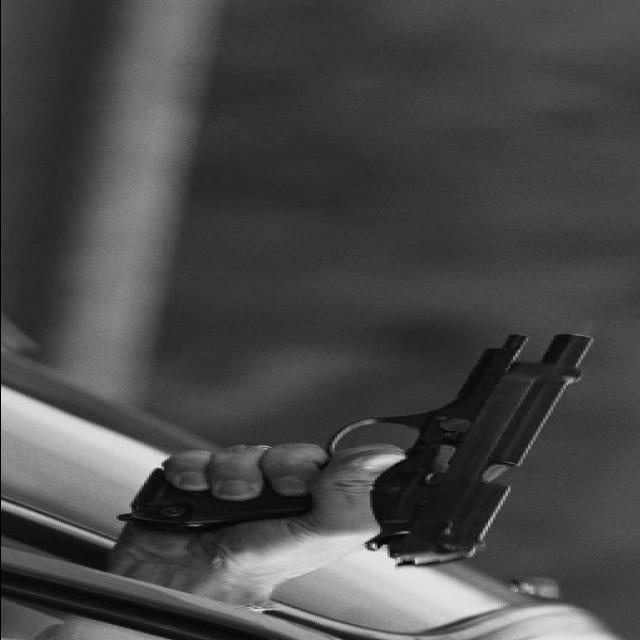weapons: (105, 316, 623, 576)
